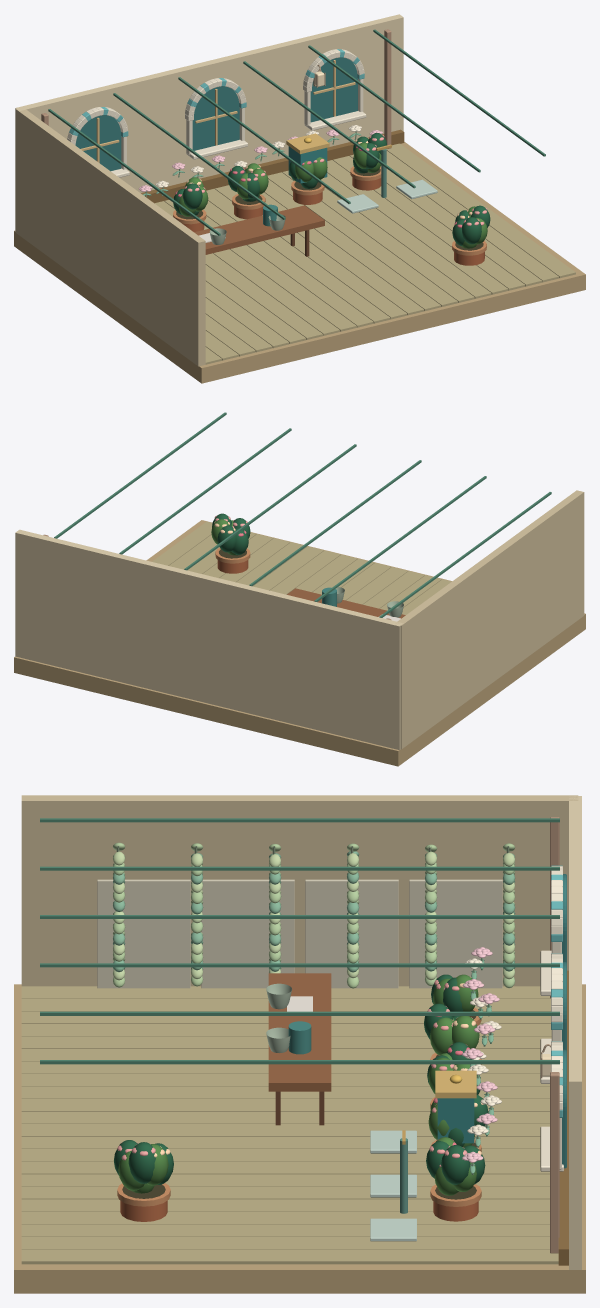
Rendered from green.glb.
3 renders of one model, top to bottom at view 1: azimuth 30°, elevation 25°; view 2: azimuth 150°, elevation 25°; view 3: azimuth 270°, elevation 25°, orthographic. The views are drawn at different scales.
Visible parts, largest first — view 1: Art_Material_7, Art_Material_9, Art_Material_8, Art_Material_6, Art_Material_17, Art_Material_22, Art_Arch limestone, Art_Material_12, Art_Material_1, Art_Material_2, Art_Material_25, Art_Material_10 (+11 smaller); view 2: Art_Material_8, Art_Material_9, Art_Material_6, Art_Material_7, Art_Material_17, Art_Material_22, Art_Material_12; view 3: Art_Material_7, Art_Material_9, Art_Muted wall panels, Art_Material_6, Art_Material_17, Art_Material_8, Art_Material_12, Art_Material_22, Art_Material_25, Art_Vine sage, Art_Vine lime, Art_Greenhouse patterned stone (+16 smaller).
Boxes of the visible parts, bbox=[...] form: Art_Material_7: bbox=[155, 143, 575, 364]; Art_Material_9: bbox=[15, 109, 205, 366]; Art_Material_8: bbox=[15, 14, 403, 231]; Art_Material_6: bbox=[14, 142, 585, 383]; Art_Material_17: bbox=[48, 29, 545, 235]; Art_Material_22: bbox=[173, 133, 490, 245]; Art_Arch limestone: bbox=[67, 49, 364, 169]; Art_Material_12: bbox=[194, 205, 324, 254]; Art_Material_1: bbox=[192, 86, 239, 150]; Art_Material_2: bbox=[310, 57, 357, 122]; Art_Material_25: bbox=[179, 139, 487, 248]; Art_Material_10: bbox=[141, 129, 404, 203]; Art_Material_8: bbox=[15, 529, 403, 749]; Art_Material_9: bbox=[395, 490, 584, 749]; Art_Material_6: bbox=[14, 520, 585, 766]; Art_Material_7: bbox=[152, 522, 451, 614]; Art_Material_17: bbox=[54, 412, 551, 617]; Art_Material_22: bbox=[212, 513, 250, 555]; Art_Material_12: bbox=[287, 588, 405, 618]; Art_Material_7: bbox=[21, 986, 558, 1264]; Art_Material_9: bbox=[21, 795, 578, 986]; Art_Muted wall panels: bbox=[97, 879, 502, 988]; Art_Material_6: bbox=[14, 984, 585, 1293]; Art_Material_17: bbox=[40, 818, 559, 1064]; Art_Material_8: bbox=[569, 796, 581, 1269]; Art_Material_12: bbox=[268, 973, 331, 1091]; Art_Material_22: bbox=[114, 974, 488, 1184]; Art_Material_25: bbox=[118, 974, 479, 1195]; Art_Vine sage: bbox=[113, 842, 515, 988]; Art_Vine lime: bbox=[113, 851, 515, 980]; Art_Greenhouse patterned stone: bbox=[370, 1130, 416, 1241].
Size of the model in its own units: 13.03 by 4.5 by 11.
